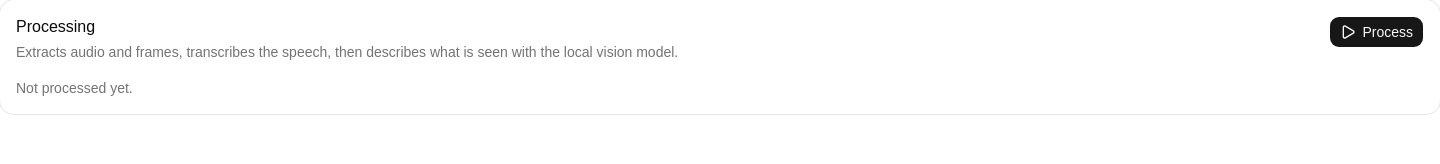
Scenario: ProcessingCard › shows the server's reason when processing cannot start
What coordinates should you click on to do the following:
click the button "Process"
I would click on:
 (1377, 32)
Its box is [1329, 16, 1424, 48].
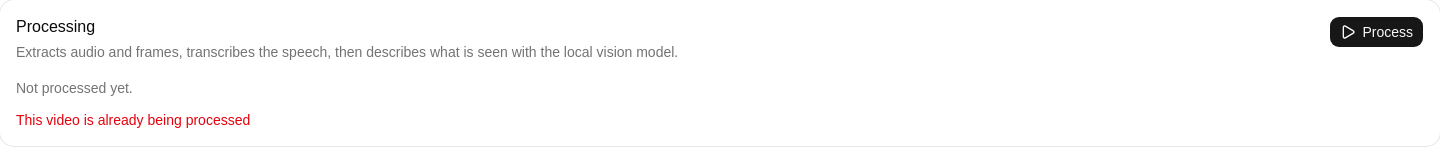
Result: the message reads "This video is already being processed" at [16, 112, 250, 128]
